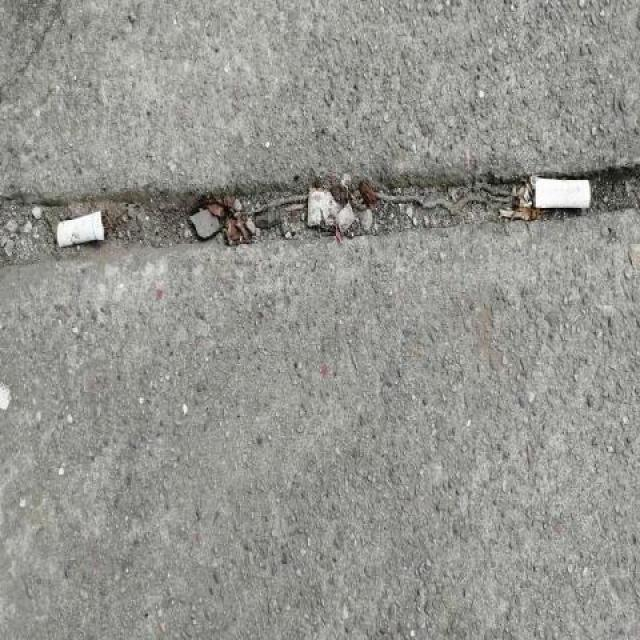non-organic waste: (528, 174, 600, 218), (51, 207, 110, 253)
